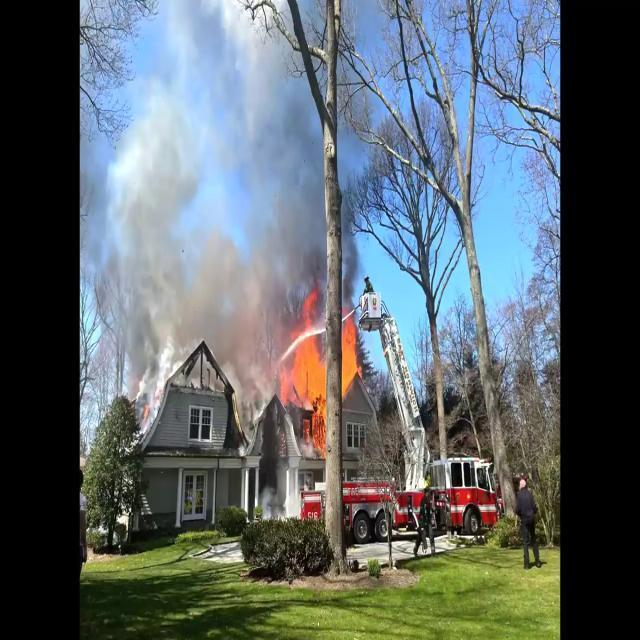Fire: (286, 282, 376, 436)
Smoke: (89, 58, 272, 411), (218, 7, 370, 298)
